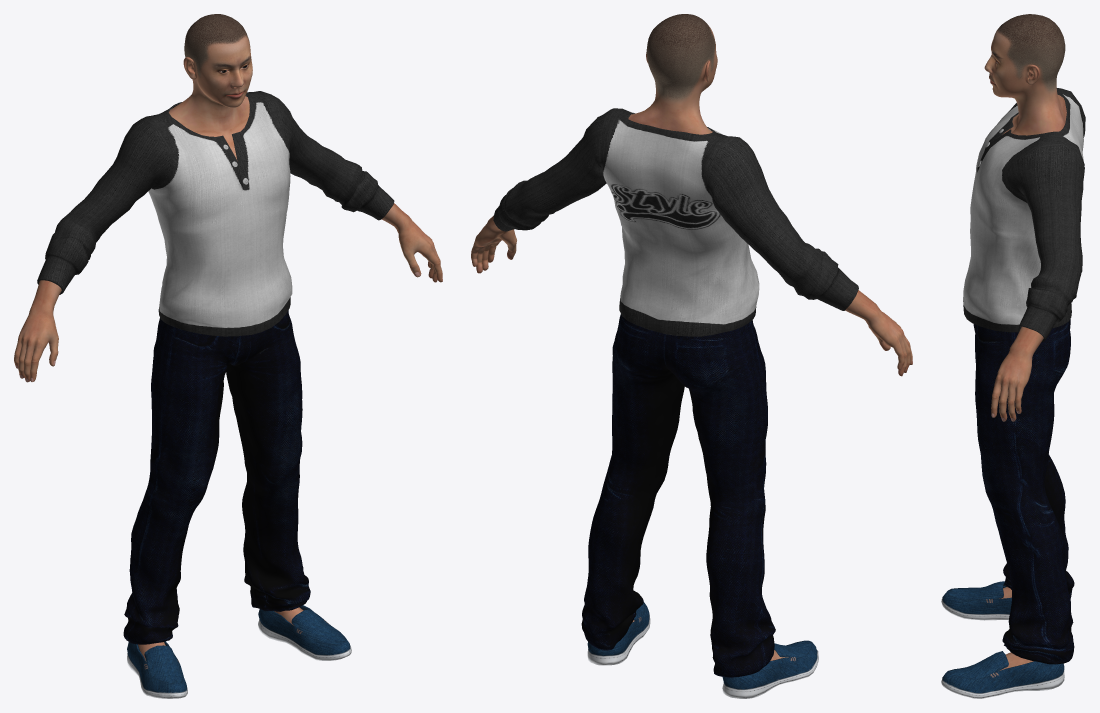
File: man.glb
The picture shows the model from 3 angles, left to right: view 1: azimuth 30°, elevation 25°; view 2: azimuth 150°, elevation 25°; view 3: azimuth 270°, elevation 25°; orthographic projection. The views are drawn at different scales.
Parts seen in each view (by area): view 1: man; view 2: man; view 3: man.
Boxes of the visible parts, x1=… form: man: x1=14, y1=14, x2=442, y2=698; man: x1=471, y1=14, x2=912, y2=698; man: x1=941, y1=14, x2=1085, y2=698.
Bounding box in the file's own units: 125 × 181 × 37.35.
Materials: 20 (20 with a texture image).
